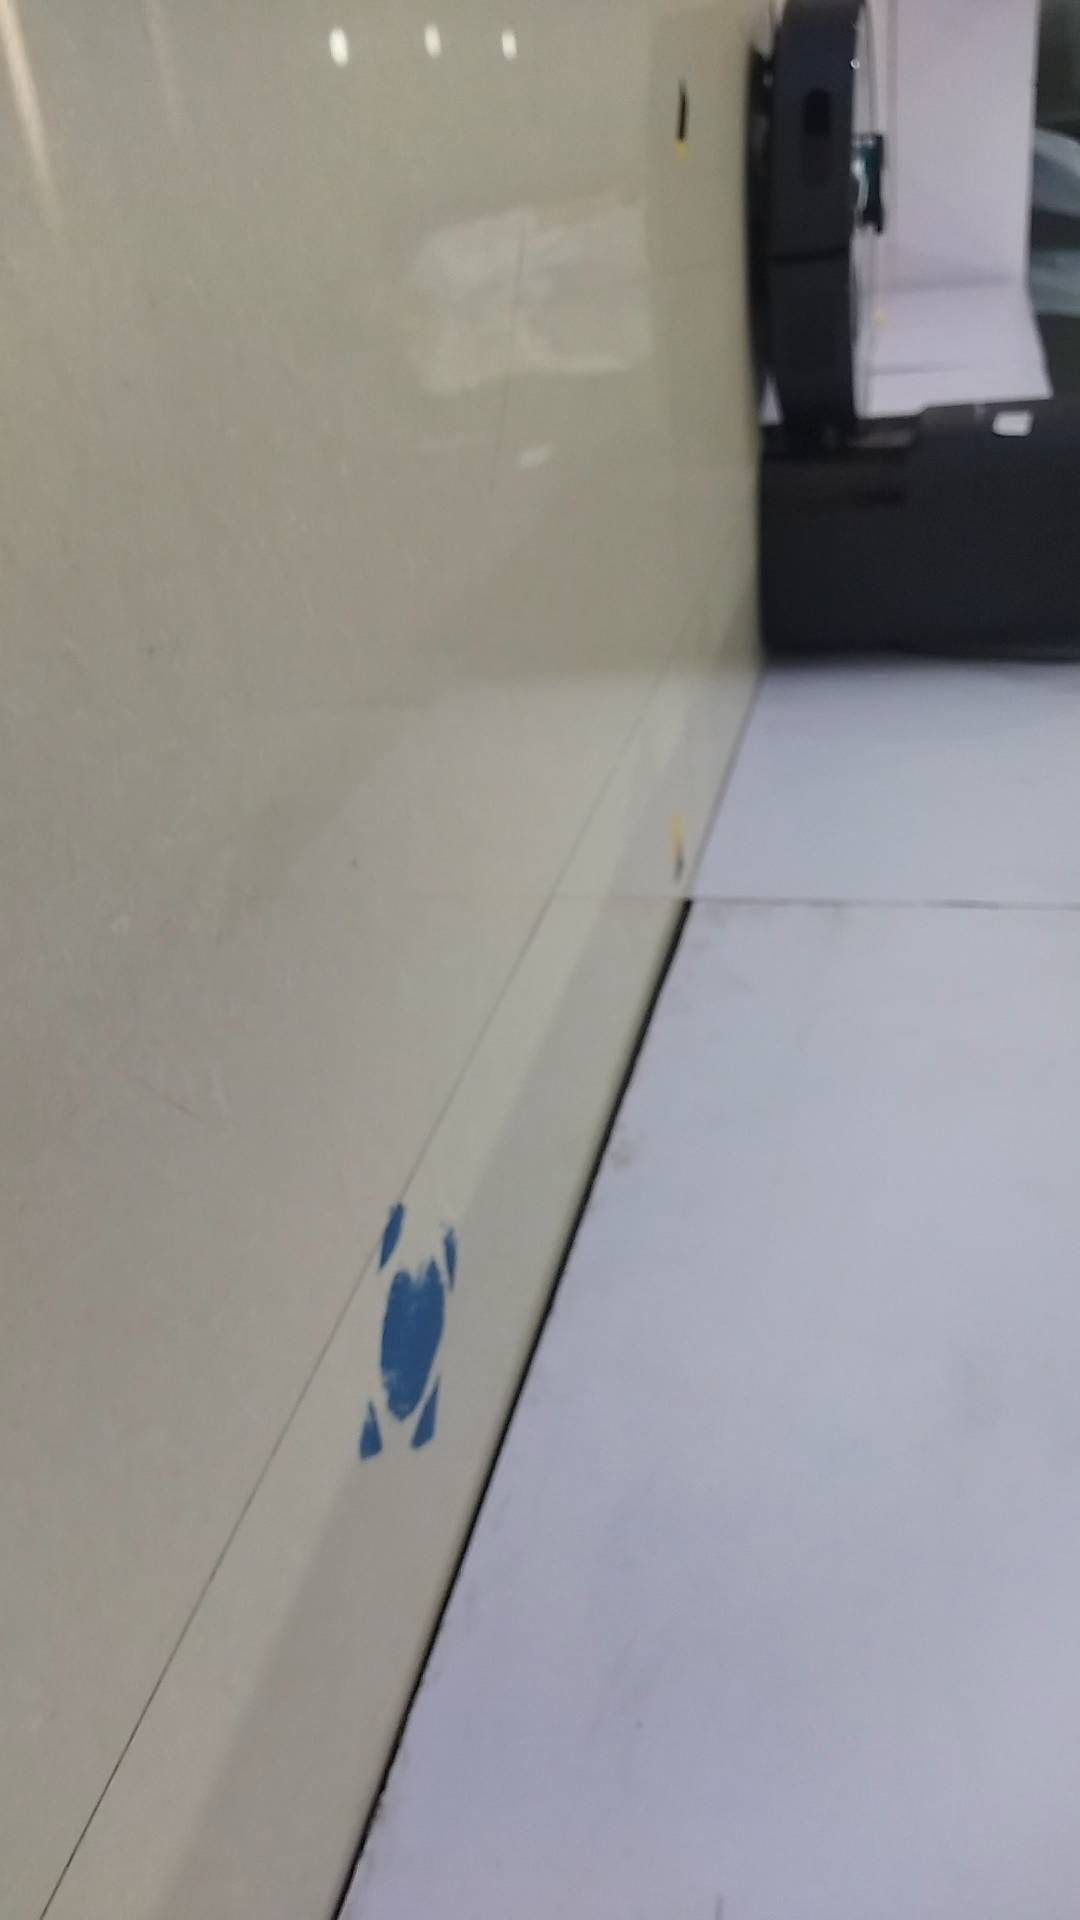dust collecting barrel: (760, 406, 1080, 671)
